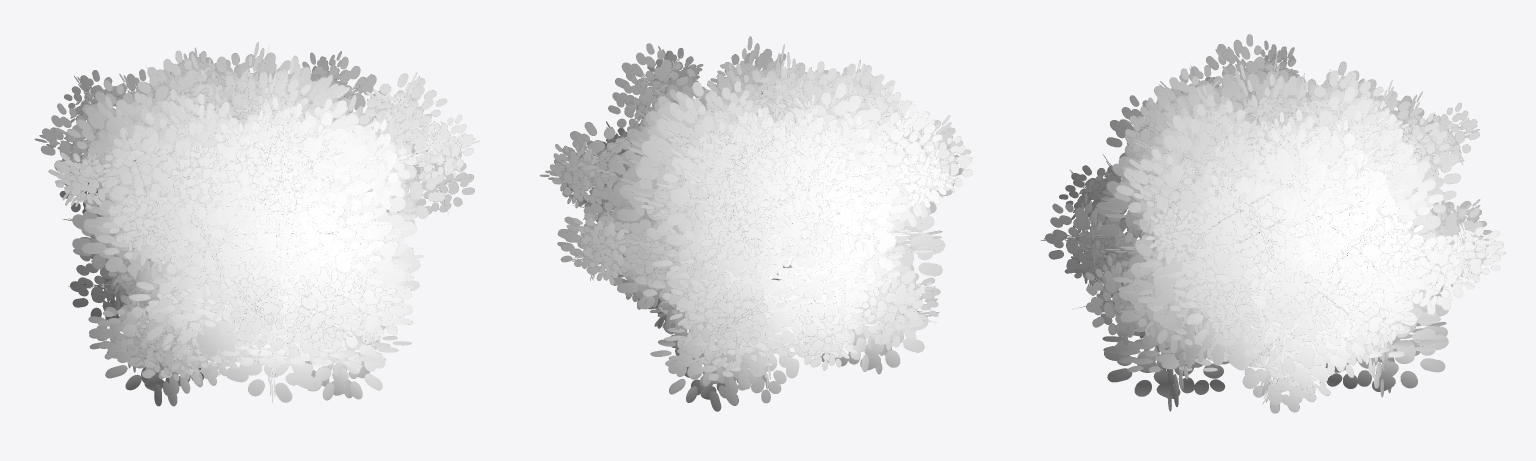
Rendered from Bush_Common.gltf.
3 views of the same model, side by side, from view 1: azimuth 30°, elevation 25°; view 2: azimuth 150°, elevation 25°; view 3: azimuth 270°, elevation 25° (orthographic). The views are drawn at different scales.
Visible parts, largest first — view 1: Bush_Common; view 2: Bush_Common; view 3: Bush_Common.
Part boxes in pixels (bbox=[...]): Bush_Common: bbox=[34, 42, 479, 406]; Bush_Common: bbox=[539, 36, 974, 411]; Bush_Common: bbox=[1041, 34, 1505, 413].
Bounding box in the file's own units: 1.91 × 1.58 × 1.97.
Materials: 1 (1 with a texture image).
